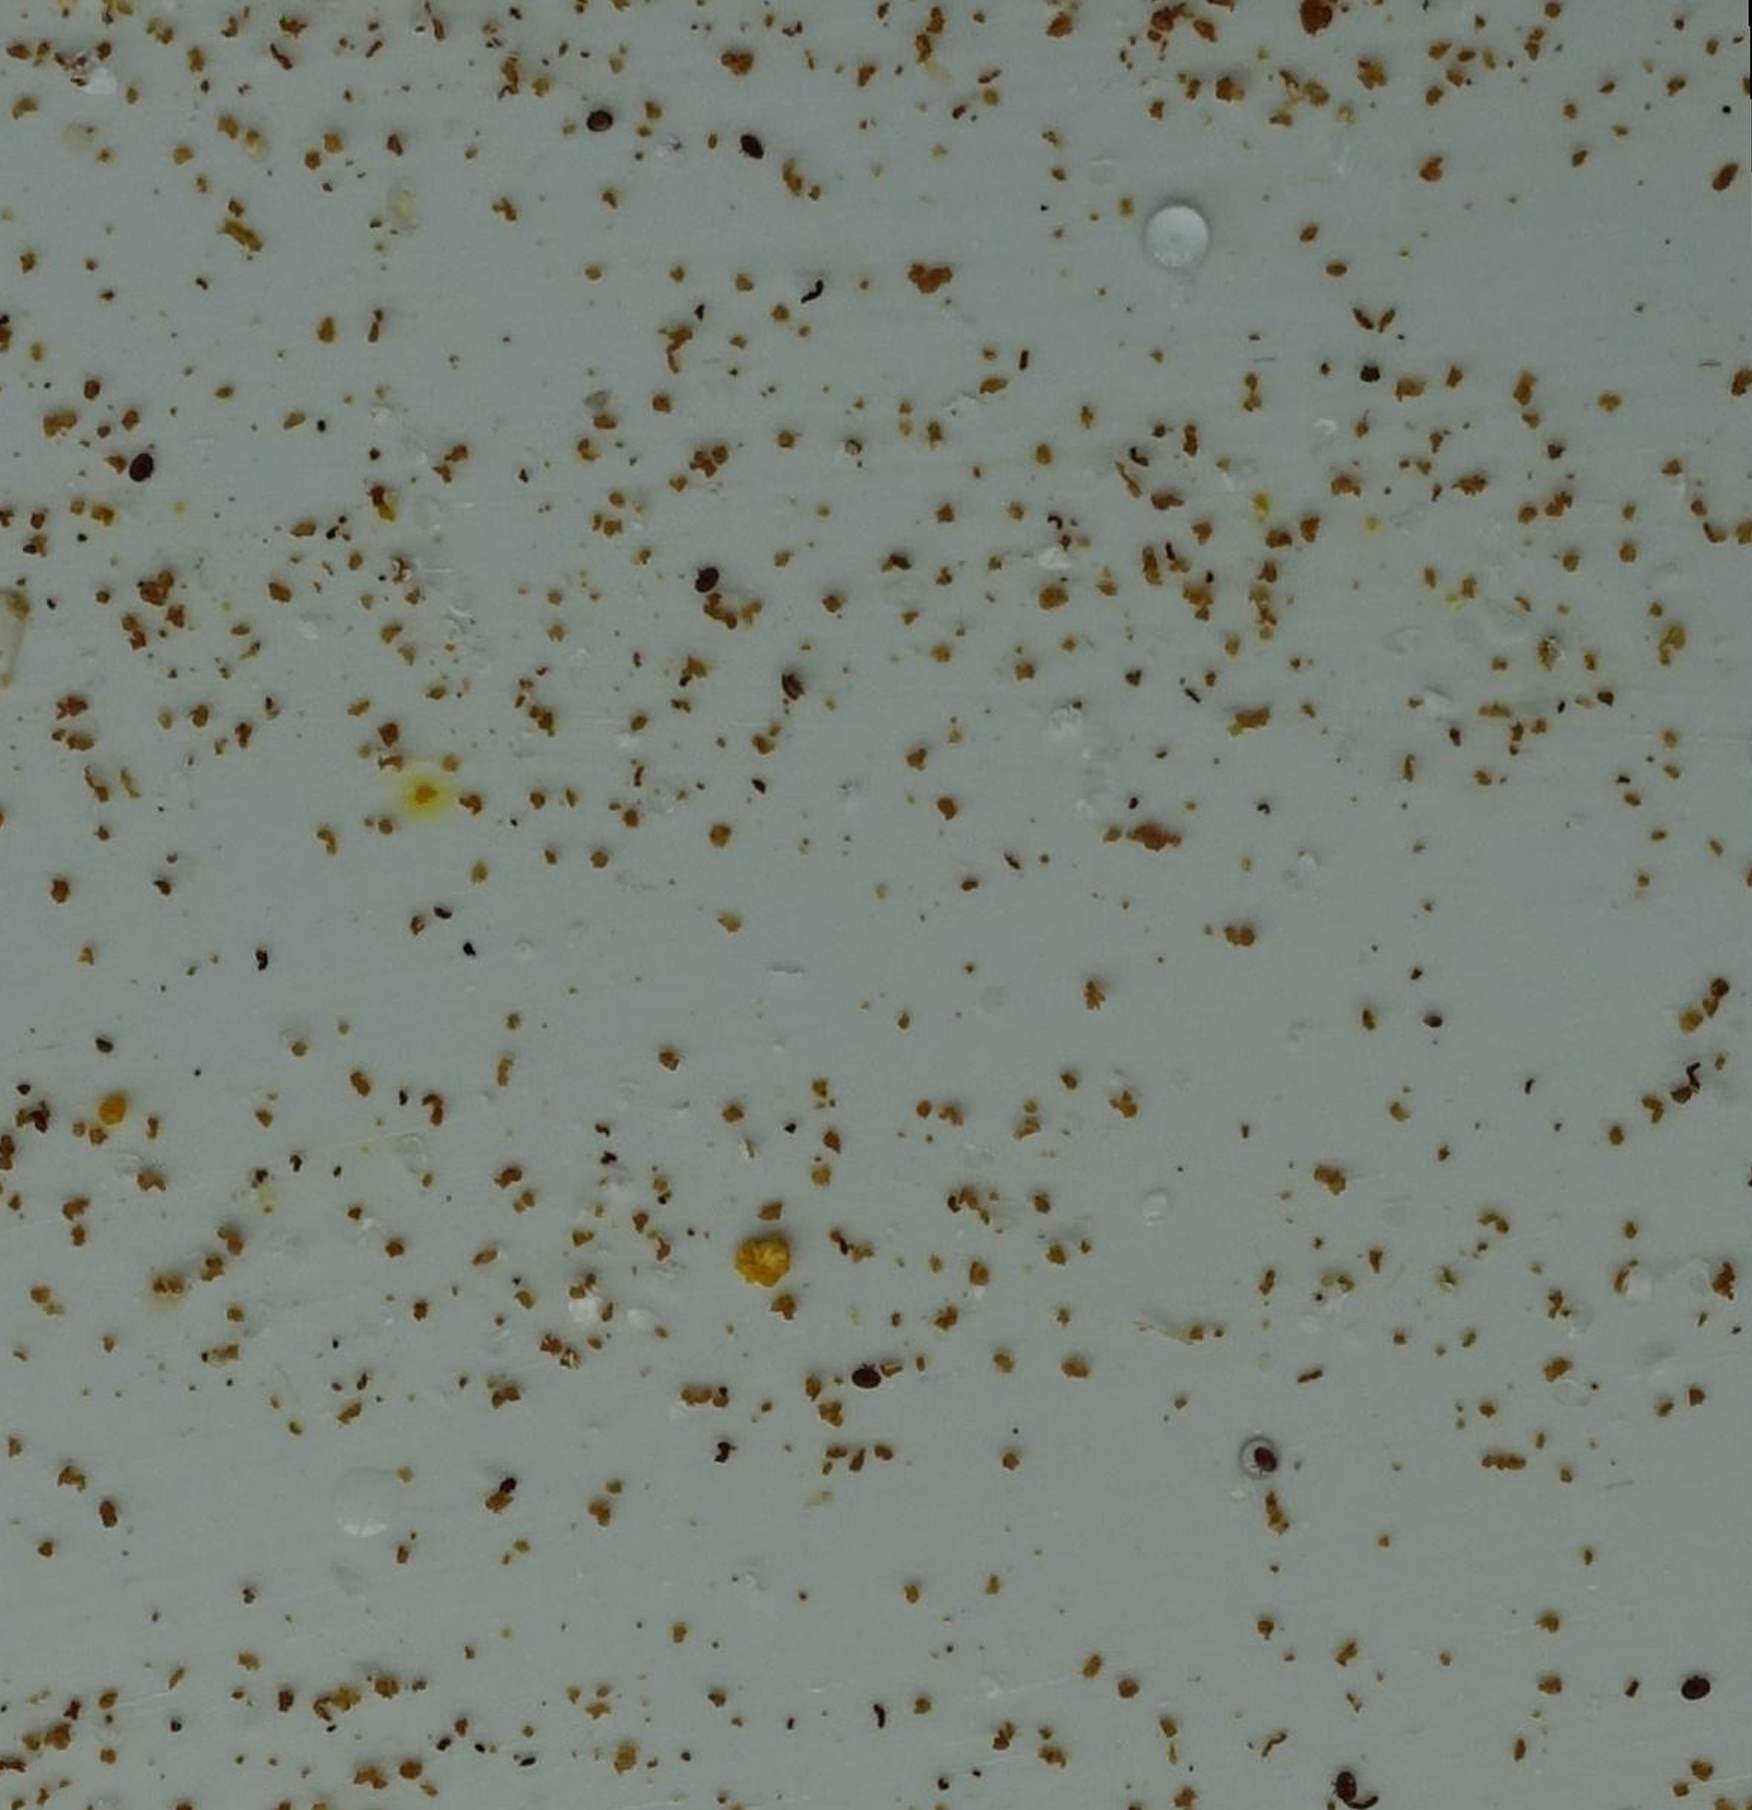Varroa: (769, 664, 811, 708), (852, 1366, 884, 1398), (1676, 1673, 1707, 1707), (692, 564, 722, 596), (737, 128, 768, 160), (126, 452, 157, 483), (1329, 1770, 1358, 1802), (587, 108, 616, 139), (1253, 1445, 1280, 1474)
